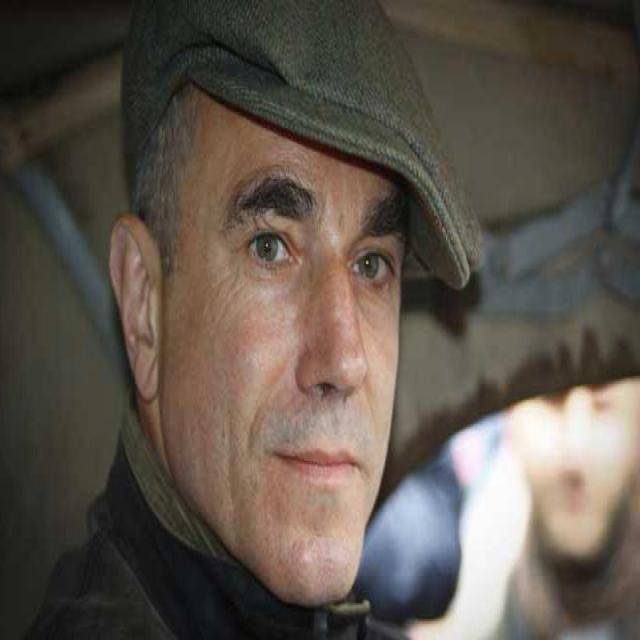no-earmuff: (105, 196, 184, 406)
